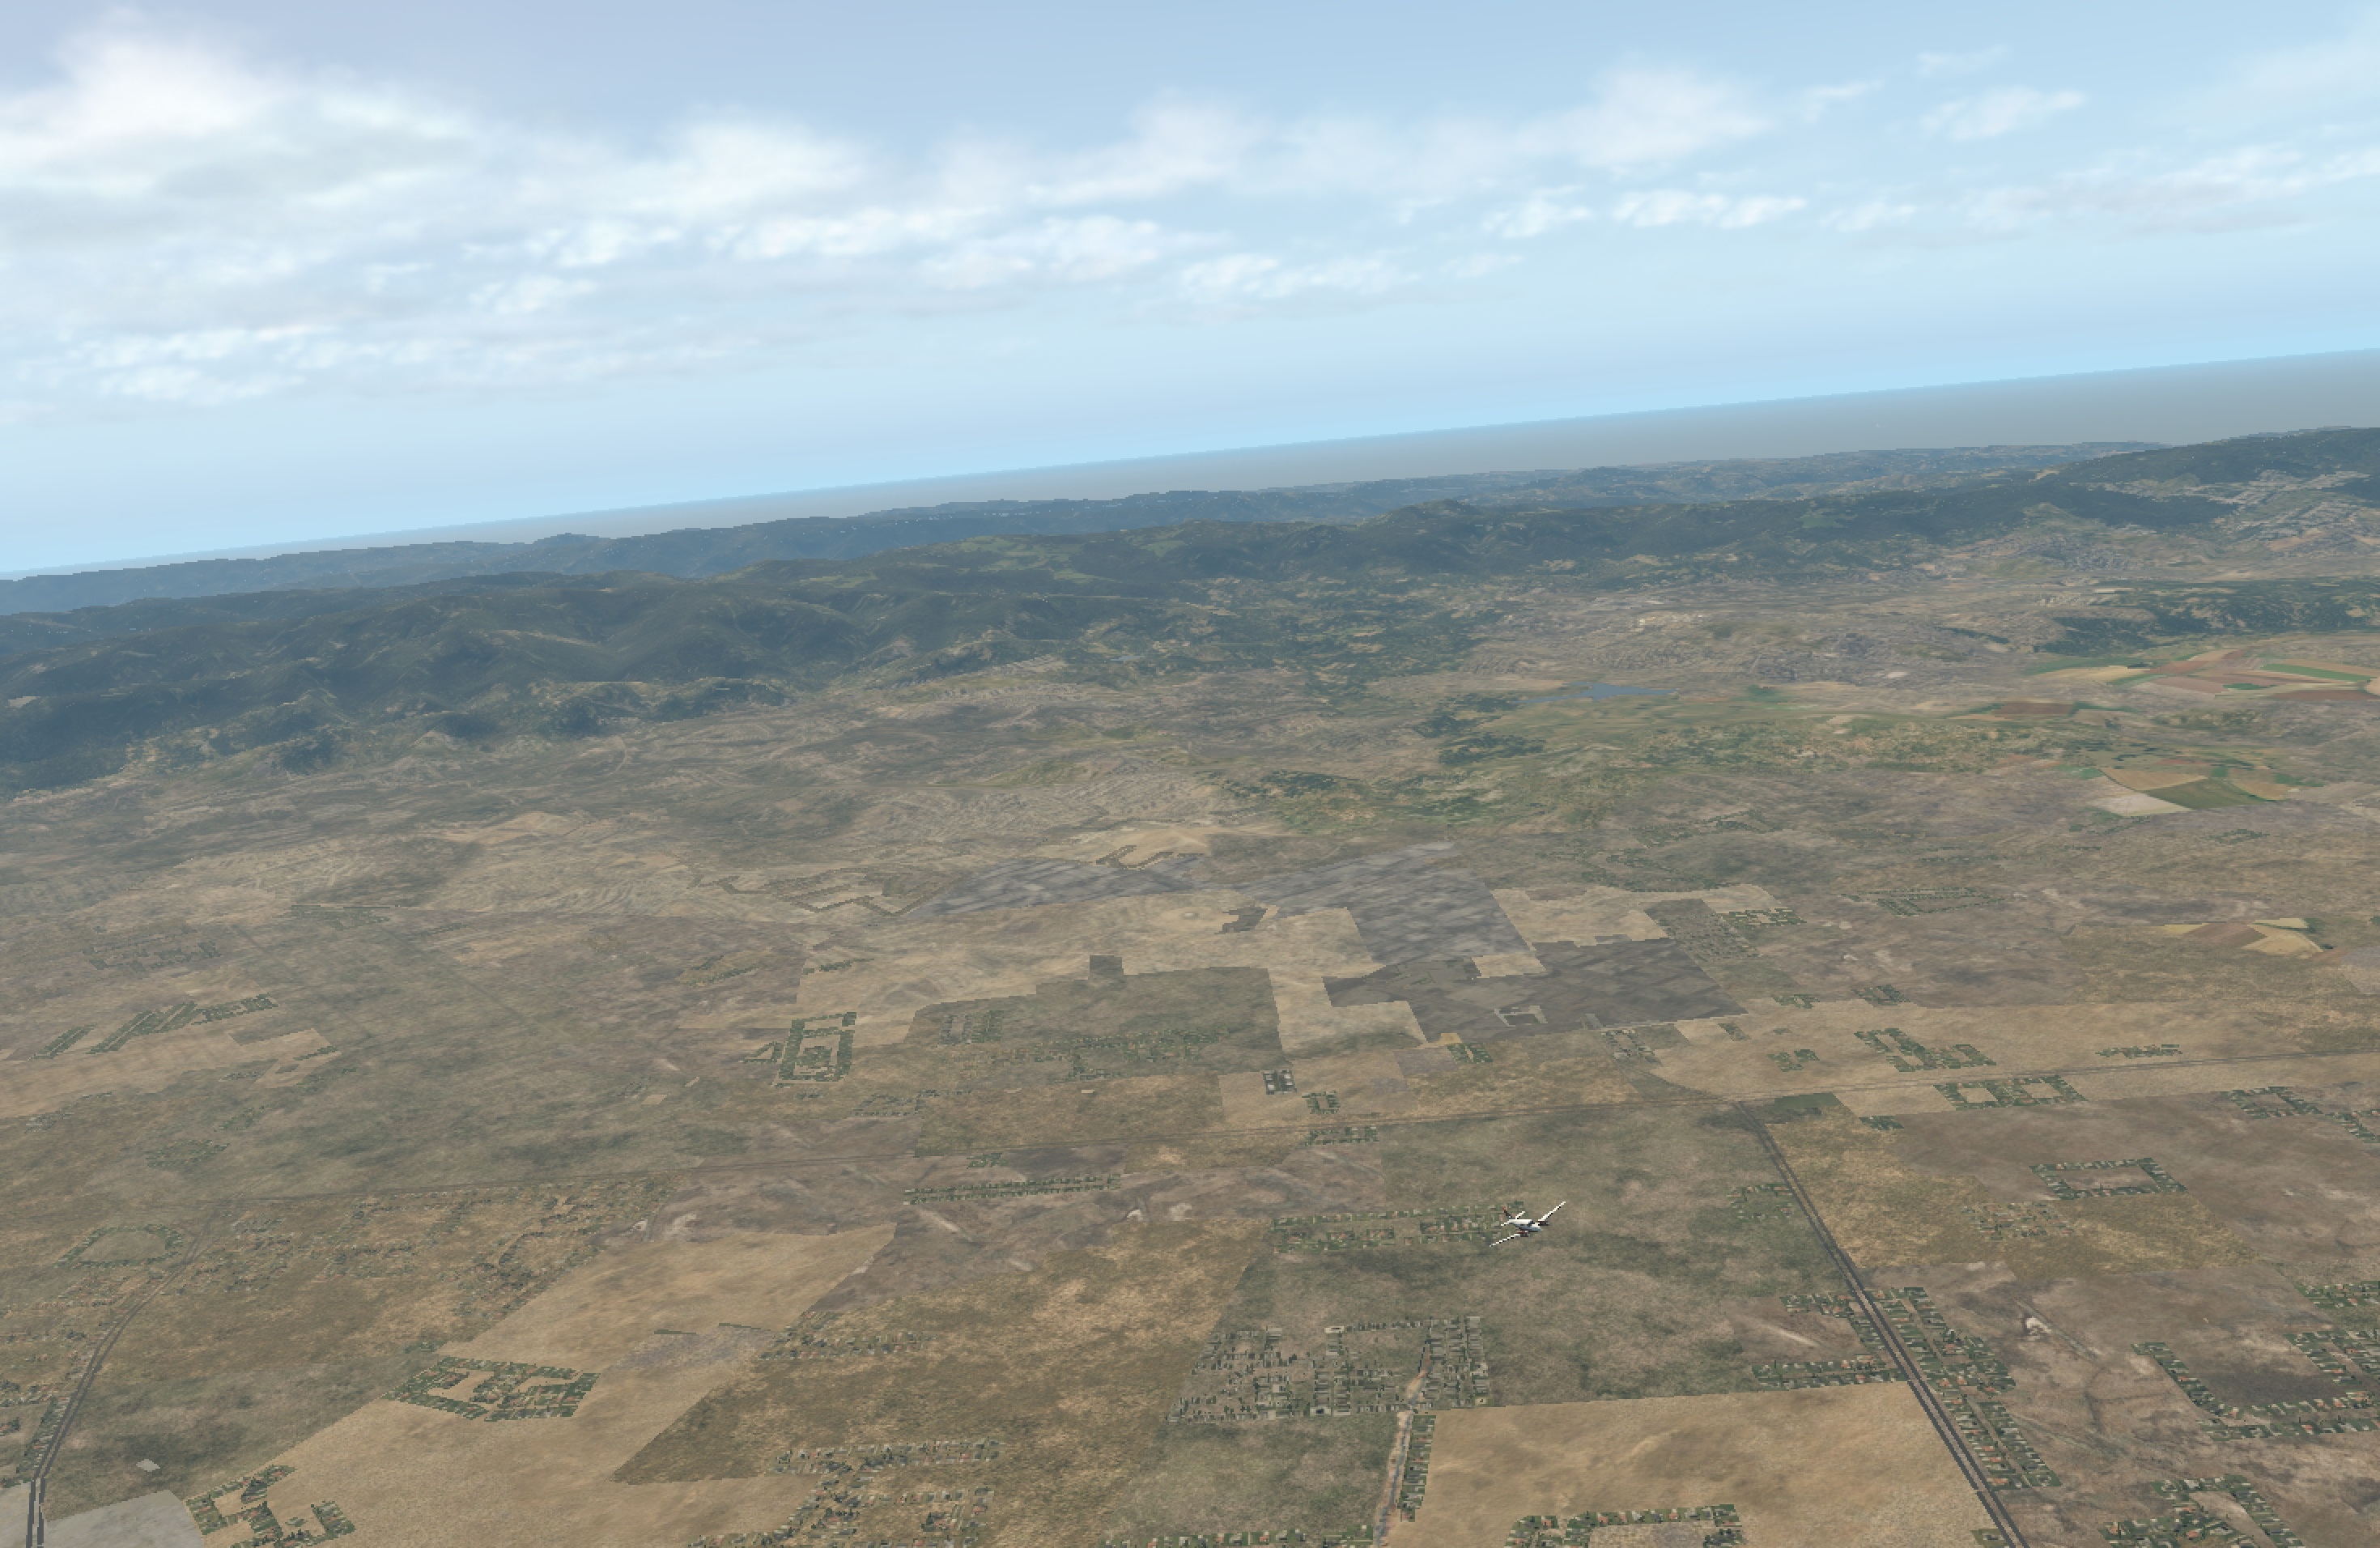aircraft: (1485, 1213, 1579, 1248)
